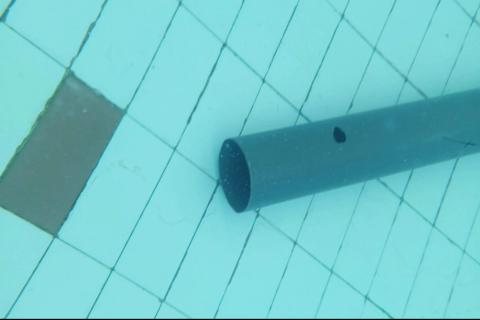kebocoran: (331, 124, 347, 144)
keretakan: (443, 135, 475, 148)
